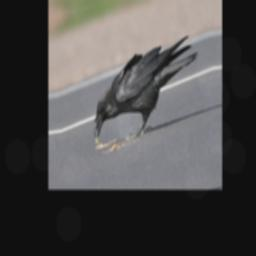Crow: (86, 33, 206, 149)
